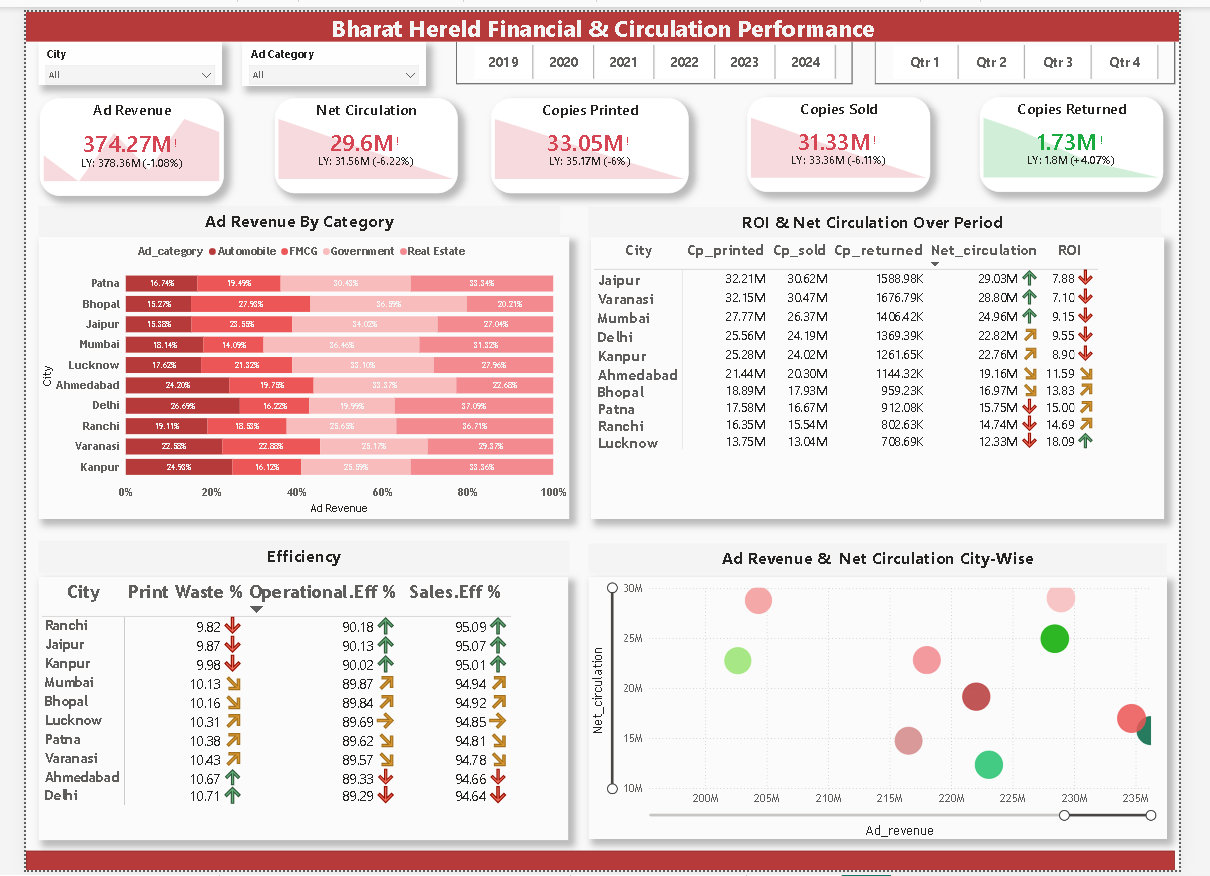

The page's visual inventory and layout, read from the dashboard file:
{"tool":"powerbi","page":{"name":"Bharat Herald – Financial & Circulation Performance","canvas":[1700,1265],"ordinal":0},"visuals":[{"type":"slicer","fields":{"Values":["dim_date.Year"]},"box":[633.4,40,584.2,65.5],"z":0},{"type":"slicer","fields":{"Values":["dim_city.city"]},"box":[18.3,43.3,270,63.3],"z":1000},{"type":"slicer","fields":{"Values":["dim_ad_category.standard_ad_category"]},"box":[318.3,43.3,270,65],"z":2000},{"type":"hundredPercentStackedBarChart","fields":{"Category":["dim_city.city"],"Y":["key metrices.Ad_revenue"],"Series":["dim_ad_category.standard_ad_category"]},"box":[18.2,331.2,782.6,415],"z":3000},{"type":"pivotTable","fields":{"Rows":["dim_city.city"],"Values":["key metrices.Cp_ptinted","key metrices.Cp_sold","key metrices.Cp_returned","key metrices.Net_circulation","key metrices.ROI"]},"box":[831.8,331.2,844.5,415],"z":4000},{"type":"scatterChart","fields":{"Category":["dim_city.city"],"Y":["key metrices.Net_circulation"],"X":["key metrices.Ad_revenue"],"Size":["key metrices.Ad_revenue"],"Series":["dim_city.city"]},"box":[828.1,831.8,851.8,385.8],"z":5000},{"type":"pivotTable","title":"Efficiency","fields":{"Rows":["dim_city.city"],"Values":["key metrices.Print Waste %","key metrices.Operational Efficiency %","key metrices.PSales_efficiency"]},"box":[18.2,831.8,780.8,387.7],"z":6000},{"type":"slicer","fields":{"Values":["dim_date.Date.Variation.Date Hierarchy.Quarter"]},"box":[1250.4,40,442.3,65.5],"z":7000},{"type":"shape","box":[0,0,1700,43.7],"z":8000},{"type":"textbox","box":[18.6,285.7,768.6,45.7],"z":9000},{"type":"textbox","box":[828.4,286.6,844.1,45.1],"z":10000},{"type":"textbox","box":[828.1,782.6,851.8,43.7],"z":11000},{"type":"textbox","box":[18.2,779,782.6,47.3],"z":12000},{"type":"kpi","title":"Net Circulation ","fields":{"Indicator":["key metrices.Net_circulation"],"TrendLine":["dim_date.Date.Variation.Date Hierarchy.Year"],"Goal":["key metrices.Ly_Net_circulation"]},"box":[366.9,126.3,269.4,140.1],"z":13000},{"type":"kpi","title":"Ad Revenue ","fields":{"TrendLine":["dim_date.Date.Variation.Date Hierarchy.Year"],"Indicator":["key metrices.Ad_revenue"],"Goal":["key metrices.LY_ad_revenue"]},"box":[21.1,126.3,271.2,143.8],"z":14000},{"type":"kpi","title":"Copies Printed","fields":{"TrendLine":["dim_date.Date.Variation.Date Hierarchy.Year"],"Indicator":["key metrices.Cp_ptinted"],"Goal":["key metrices.Ly_cp_printed"]},"box":[685.4,126.3,291.2,140.1],"z":15000},{"type":"kpi","title":"Copies Sold","fields":{"TrendLine":["dim_date.Date.Variation.Date Hierarchy.Year"],"Indicator":["key metrices.Cp_sold"],"Goal":["key metrices.Ly_cp_sold"]},"box":[1062.9,125.6,269.4,140.1],"z":16000},{"type":"kpi","title":"Copies Returned","fields":{"TrendLine":["dim_date.Date.Variation.Date Hierarchy.Year"],"Indicator":["key metrices.Cp_returned"],"Goal":["key metrices.ly_cp_returned"]},"box":[1406.2,124.5,270,140],"z":17000},{"type":"shape","box":[0,1235.9,1692.7,29.5],"z":18000}]}

Visuals, with their boxes in screenshot pixels (x1, y1, x2, y2), scaled from the page's 1700x1265 canvas onto the 1210x876 screenshot:
slicer - dim_date.Year: <region>451, 28, 867, 73</region>
slicer - dim_city.city: <region>13, 30, 205, 74</region>
slicer - dim_ad_category.standard_ad_category: <region>227, 30, 419, 75</region>
hundredPercentStackedBarChart - dim_city.city x key metrices.Ad_revenue: <region>13, 229, 570, 517</region>
pivotTable - dim_city.city x key metrices.Cp_ptinted: <region>592, 229, 1193, 517</region>
scatterChart - dim_city.city x key metrices.Net_circulation: <region>589, 576, 1196, 843</region>
"Efficiency" pivotTable: <region>13, 576, 569, 844</region>
slicer - dim_date.Date.Variation.Date Hierarchy.Quarter: <region>890, 28, 1205, 73</region>
shape: <region>0, 0, 1209, 30</region>
textbox: <region>13, 198, 560, 229</region>
textbox: <region>590, 198, 1190, 230</region>
textbox: <region>589, 542, 1196, 572</region>
textbox: <region>13, 539, 570, 572</region>
"Net Circulation " kpi: <region>261, 87, 453, 184</region>
"Ad Revenue " kpi: <region>15, 87, 208, 187</region>
"Copies Printed" kpi: <region>488, 87, 695, 184</region>
"Copies Sold" kpi: <region>757, 87, 948, 184</region>
"Copies Returned" kpi: <region>1001, 86, 1193, 183</region>
shape: <region>0, 856, 1205, 875</region>
